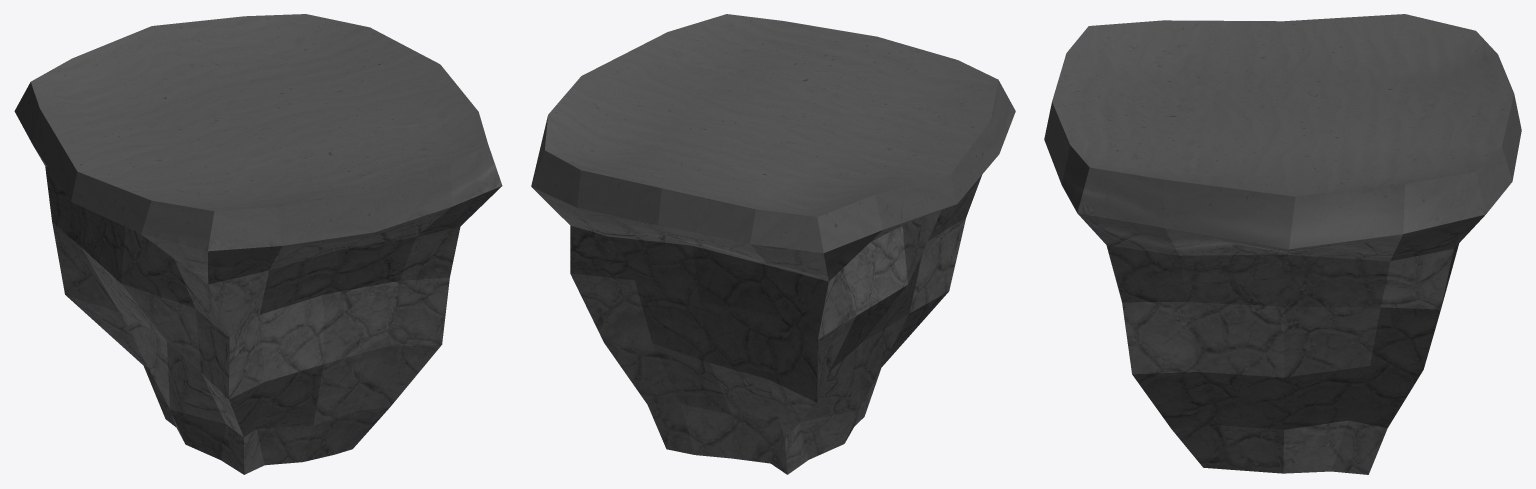
The model's file is m_island_small_1.fbx.
The picture shows the model from 3 angles, left to right: view 1: azimuth 30°, elevation 25°; view 2: azimuth 150°, elevation 25°; view 3: azimuth 270°, elevation 25°; orthographic projection. The views are drawn at different scales.
Visible parts, largest first — view 1: Island5; view 2: Island5; view 3: Island5.
Boxes of the visible parts, box(x1,y1,x2,y2) form: Island5: box(14, 14, 502, 474); Island5: box(531, 14, 1015, 474); Island5: box(1044, 14, 1521, 474).
Bounding box in the file's own units: 14.56 × 12.05 × 14.97.
